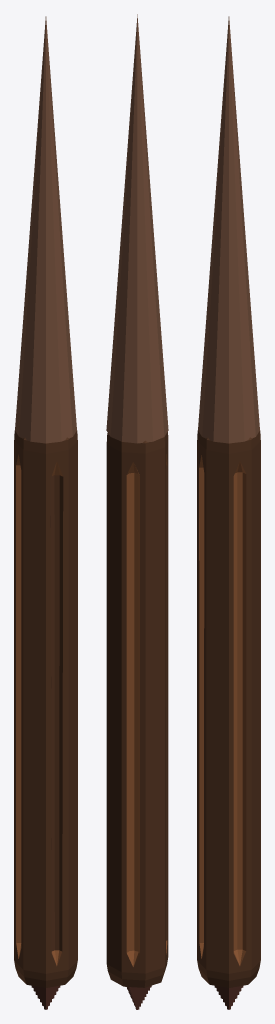
File: Wand 524.glb
3 renders of one model, left to right at view 1: azimuth 90°, elevation 25°; view 2: azimuth 150°, elevation 25°; view 3: azimuth 270°, elevation 25°, orthographic.
Visible parts, largest first — view 1: GeneratedWand; view 2: GeneratedWand; view 3: GeneratedWand.
Part boxes in pixels (x1,y1,x2,y2): GeneratedWand: [14, 16, 77, 1009]; GeneratedWand: [106, 14, 168, 1009]; GeneratedWand: [197, 16, 260, 1009].
Bounding box in the file's own units: 0.0289 × 0.4982 × 0.0289.
